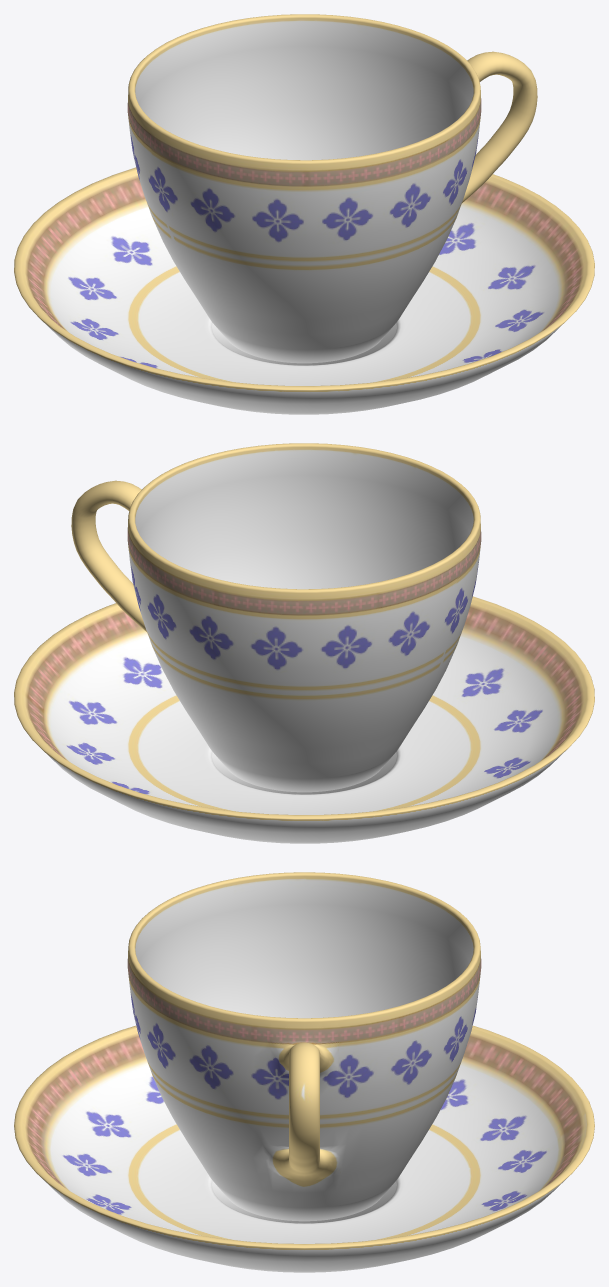
File: cup.gltf
3 renders of one model, top to bottom at view 1: azimuth 30°, elevation 25°; view 2: azimuth 150°, elevation 25°; view 3: azimuth 270°, elevation 25°, orthographic.
Parts seen in each view (by area): view 1: cup; view 2: cup; view 3: cup.
Part boxes in pixels (<box>): cup: <box>14,14,594,414</box>; cup: <box>14,443,594,843</box>; cup: <box>14,872,594,1272</box>.
Bounding box in the file's own units: 2 × 1.04 × 2.
Materials: 1 (1 with a texture image).
